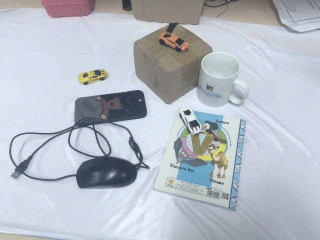book: (150, 107, 252, 212)
box: (133, 22, 214, 104), (129, 1, 207, 25)
cup: (195, 51, 251, 109)
mouse: (74, 155, 138, 190)
phone: (72, 91, 147, 124)
toy_car: (179, 107, 202, 139), (158, 32, 191, 54), (78, 69, 109, 85)
